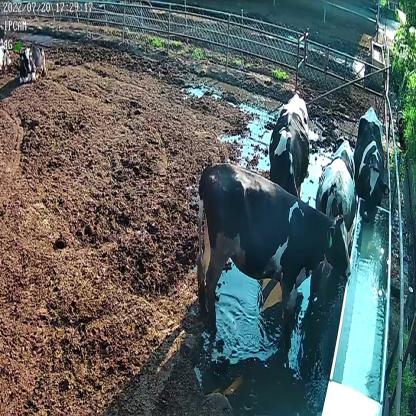cow: (195, 157, 353, 326), (268, 90, 312, 194), (353, 102, 389, 228), (316, 130, 359, 227), (16, 41, 46, 82)
